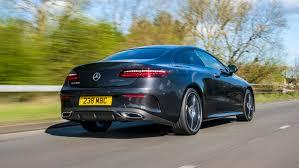mercedes: (89, 69, 104, 82)
